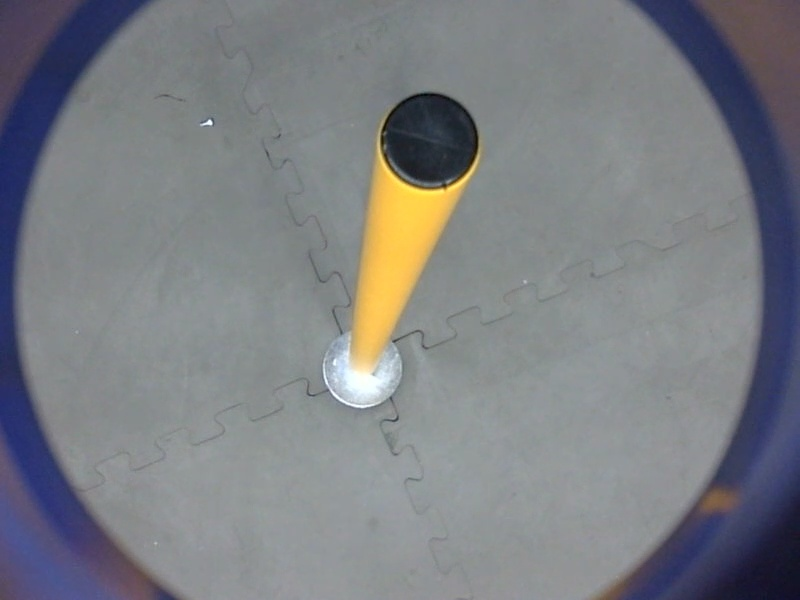tip: (371, 85, 488, 196)
